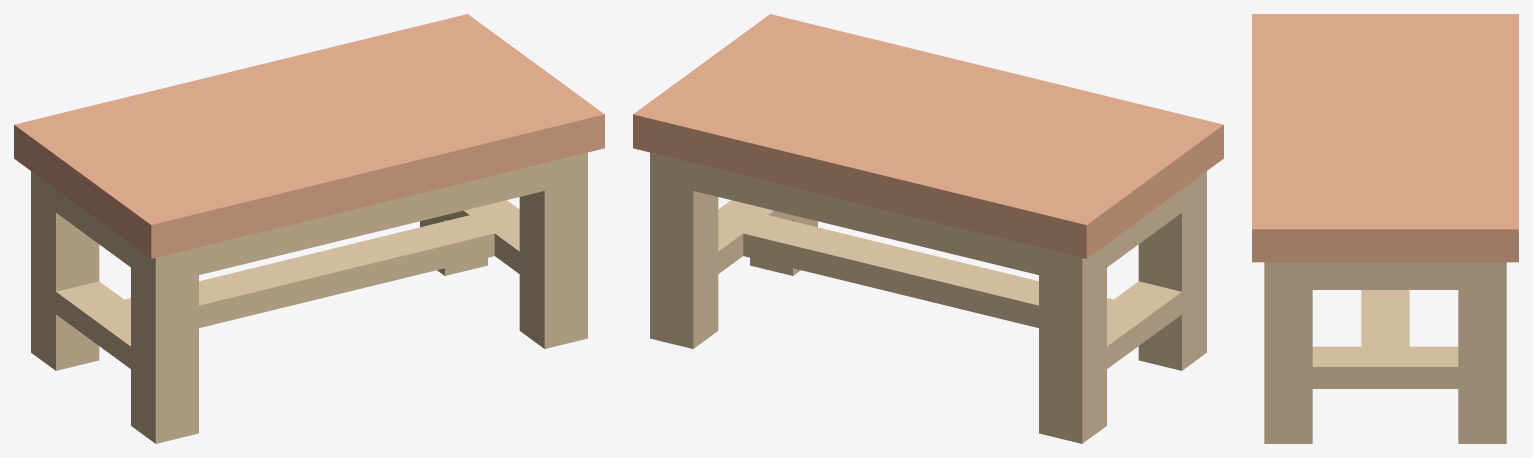
File: benchCushionLow.glb
3 views of the same model, side by side, from view 1: azimuth 30°, elevation 25°; view 2: azimuth 150°, elevation 25°; view 3: azimuth 270°, elevation 25° (orthographic). The views are drawn at different scales.
Visible parts, largest first — view 1: benchCushionLow; view 2: benchCushionLow; view 3: benchCushionLow.
Boxes of the visible parts, x1=… form: benchCushionLow: x1=14, y1=14, x2=604, y2=443; benchCushionLow: x1=633, y1=14, x2=1223, y2=443; benchCushionLow: x1=1252, y1=14, x2=1518, y2=443.
Bounding box in the file's own units: 4.2 × 2 × 2.2.
